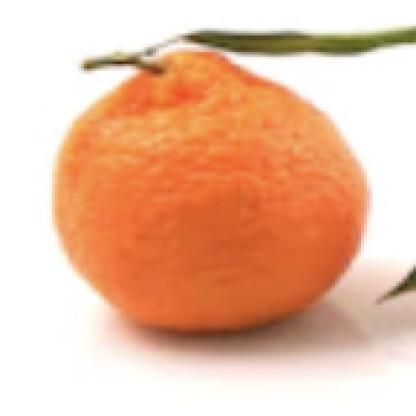fresh: (53, 43, 369, 331)
